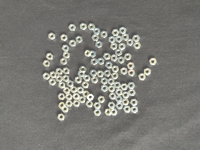nut: (149, 58, 158, 66), (139, 73, 147, 81), (131, 106, 139, 114), (128, 82, 136, 90), (128, 89, 136, 97), (112, 65, 120, 73), (108, 85, 116, 93), (108, 102, 116, 110), (88, 23, 96, 31), (98, 96, 106, 104), (94, 102, 102, 110), (60, 58, 68, 66), (73, 100, 81, 108), (58, 93, 66, 101), (145, 68, 152, 76), (133, 35, 141, 42), (134, 42, 142, 49), (131, 99, 138, 107), (125, 53, 132, 61), (128, 62, 135, 70), (128, 70, 136, 77), (121, 67, 128, 75), (122, 34, 130, 41), (120, 27, 127, 35), (121, 84, 129, 91), (122, 99, 130, 106), (118, 56, 125, 64), (119, 43, 126, 51), (116, 35, 123, 43), (112, 29, 120, 36), (109, 36, 116, 44), (111, 54, 118, 62), (112, 72, 119, 80), (115, 96, 123, 103), (116, 103, 124, 110), (108, 78, 115, 86), (109, 93, 117, 100), (101, 85, 108, 93), (101, 31, 108, 39), (91, 58, 98, 66), (92, 34, 100, 41), (93, 28, 101, 35), (80, 23, 87, 31), (90, 70, 98, 77), (91, 77, 99, 84), (94, 110, 102, 117), (86, 101, 94, 108), (79, 96, 86, 104), (82, 82, 90, 89), (75, 76, 82, 84), (76, 36, 83, 44), (69, 40, 77, 47), (69, 24, 77, 31), (61, 34, 68, 42), (62, 45, 70, 52), (63, 52, 71, 59), (46, 53, 54, 60), (43, 60, 51, 67), (63, 67, 70, 75), (67, 80, 74, 88), (63, 75, 70, 83), (66, 100, 73, 108), (59, 102, 66, 110), (65, 94, 73, 101), (63, 87, 70, 95), (56, 75, 63, 83), (50, 71, 57, 79), (127, 39, 134, 46), (123, 92, 130, 99), (124, 106, 131, 113), (116, 49, 123, 56), (111, 43, 118, 50), (114, 82, 121, 89), (116, 89, 123, 96), (105, 109, 112, 116), (106, 62, 113, 69), (104, 70, 111, 77), (101, 78, 108, 85), (104, 53, 111, 60), (98, 58, 105, 65), (85, 50, 92, 57), (96, 41, 103, 48), (97, 71, 104, 78), (87, 94, 94, 101), (83, 91, 90, 98), (84, 75, 91, 82), (80, 66, 87, 73), (78, 71, 85, 78), (77, 87, 84, 94), (49, 33, 56, 40), (56, 68, 63, 75), (73, 93, 80, 100), (58, 114, 65, 121), (62, 106, 69, 113), (59, 82, 66, 89), (49, 79, 56, 86), (43, 73, 50, 80), (71, 86, 77, 94), (112, 109, 118, 116), (91, 50, 96, 58)
